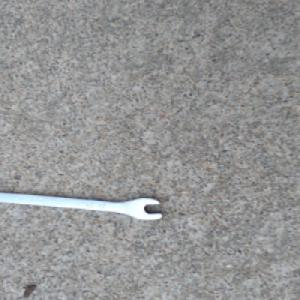Wrench: (0, 190, 165, 221)
